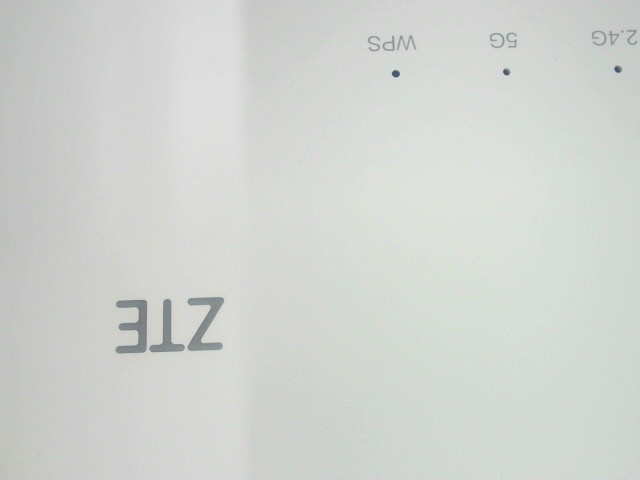AO_ZTESmall: (98, 277, 231, 369)
